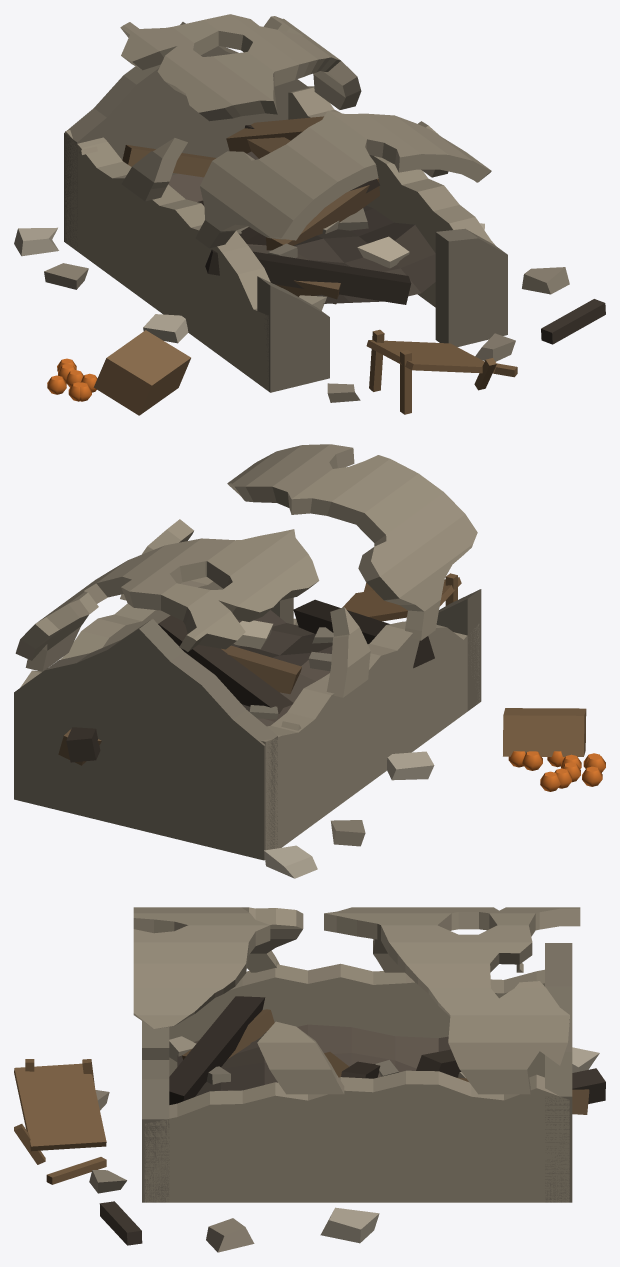
Rendered from VerHut03a.glb.
The picture shows the model from 3 angles, top to bottom: view 1: azimuth 30°, elevation 25°; view 2: azimuth 150°, elevation 25°; view 3: azimuth 270°, elevation 25°; orthographic projection. The views are drawn at different scales.
Visible parts, largest first — view 1: VerHut03a_plaster; view 2: VerHut03a_plaster; view 3: VerHut03a_plaster.
Part boxes in pixels (box(x1,y1,x2,y2)): VerHut03a_plaster: box(14, 14, 605, 415); VerHut03a_plaster: box(14, 444, 605, 878); VerHut03a_plaster: box(14, 907, 605, 1252).
Size of the model in its own units: 5.71 by 2.32 by 5.56.
